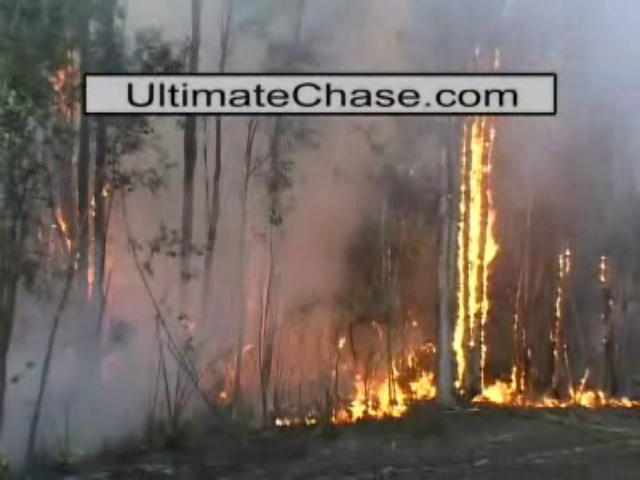fire: (453, 115, 501, 371), (340, 349, 436, 417), (478, 368, 600, 409)
